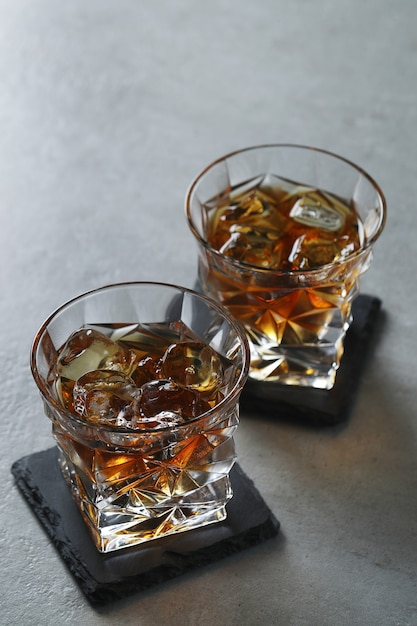alcohol: (31, 281, 250, 549), (181, 132, 388, 394)
